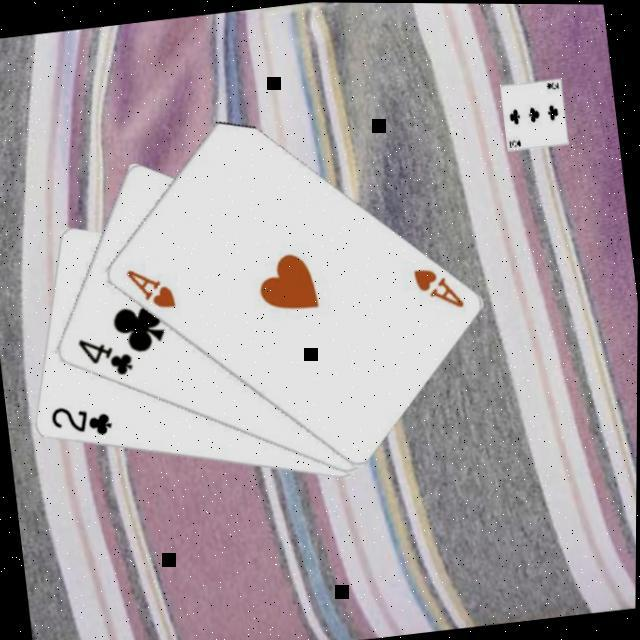2C: (47, 395, 117, 442)
4C: (75, 327, 138, 380)
AH: (122, 257, 181, 313), (410, 257, 469, 313)
